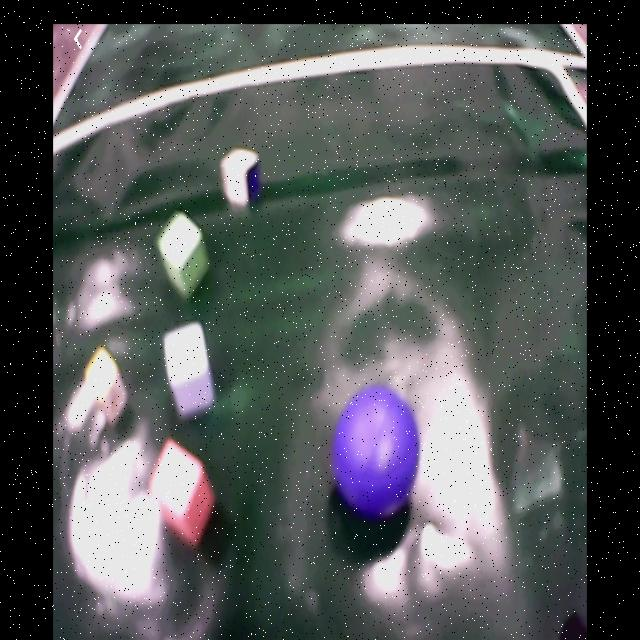ball: (332, 388, 420, 514)
